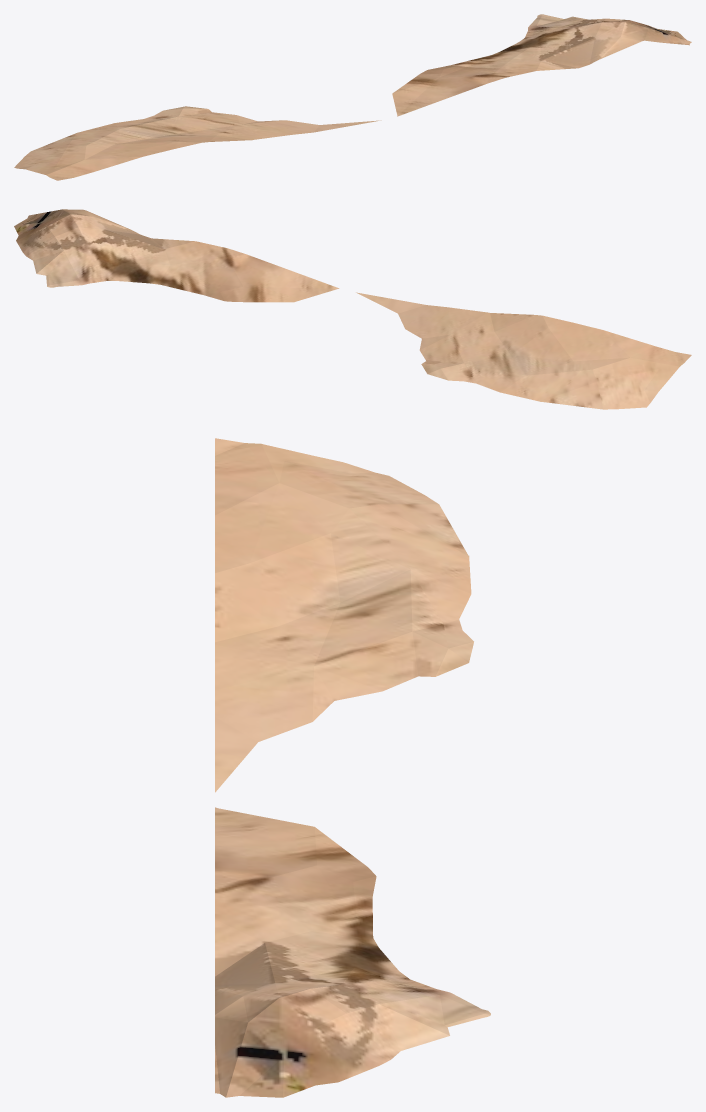
3 views of the same model, one above another, from view 1: azimuth 30°, elevation 25°; view 2: azimuth 150°, elevation 25°; view 3: azimuth 270°, elevation 25° (orthographic). The views are drawn at different scales.
Bounding box in the file's own units: 0.8709 × 0.0311 × 0.1634.
1 material, 1 textured.
